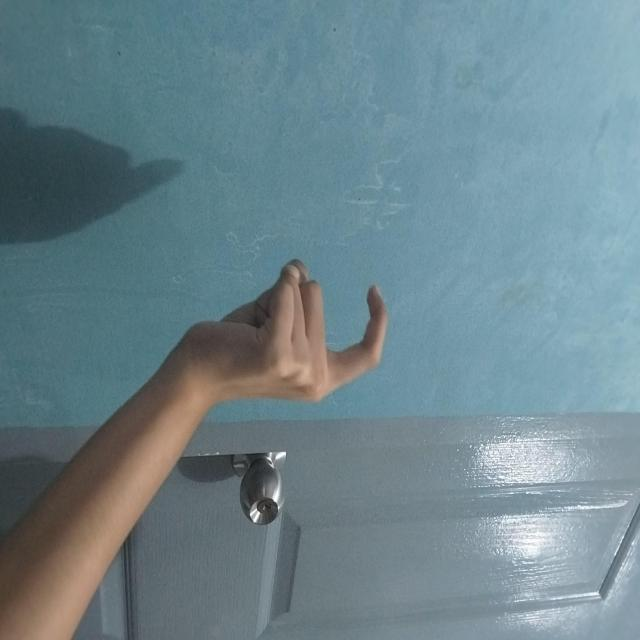X: (258, 251, 407, 461)
